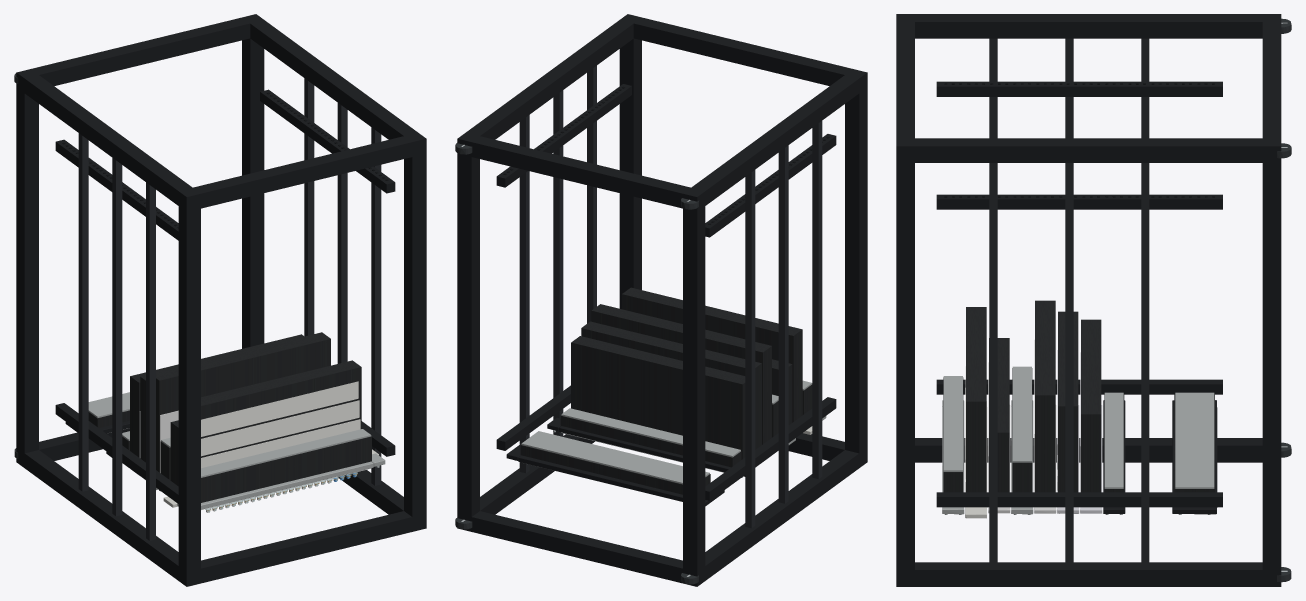
The model's file is mikrotik-crs-12u.glb.
3 renders of one model, left to right at view 1: azimuth 30°, elevation 25°; view 2: azimuth 150°, elevation 25°; view 3: azimuth 270°, elevation 25°, orthographic. The views are drawn at different scales.
Parts seen in each view (by area): view 1: RACK_FRAME__nexus_black_dark, SIDE_BRACES__nexus_black, CRS354_48G__mt354_lid, CRS317_16S__steel_textured, MOUNTING_RAILS__nexus_black_dark, CRS354_48G__steel_textured, PATCH_PANEL__steel_textured, PATCH_PANEL__cisco_grey_dark, CRS312_4C_8XG__steel_textured, CRS_UPS__cisco_grey_dark, CRS326_24G_2S__steel_textured; view 2: RACK_FRAME__nexus_black_dark, SIDE_BRACES__nexus_black, CRS312_4C_8XG__steel_textured, MOUNTING_RAILS__nexus_black_dark, CRS354_48G__steel_textured, CRS317_16S__steel_textured, CRS326_24S_2Q__steel_textured, CRS_UPS__cisco_grey_dark, CRS_UPS__steel_textured, BLANK_CRS__cisco_grey_dark, BLANK_CRS__steel_textured, CRS_UPS__nexus_black_dark (+3 smaller); view 3: RACK_FRAME__nexus_black_dark, MOUNTING_RAILS__nexus_black_dark, SIDE_BRACES__nexus_black, CRS317_16S__steel_textured, CRS354_48G__steel_textured, CRS_UPS__cisco_grey_dark, CRS312_4C_8XG__steel_textured, CRS326_24S_2Q__steel_textured, CABLE_MANAGER__cisco_grey_dark, PATCH_PANEL__cisco_grey_dark, CRS326_24G_2S__steel_textured, BLANK_CRS__cisco_grey_dark (+5 smaller).
Part boxes in pixels (x1,y1,x2,y2): RACK_FRAME__nexus_black_dark: (16,14,426,586); SIDE_BRACES__nexus_black: (78,78,381,540); CRS354_48G__mt354_lid: (201,381,360,468); CRS317_16S__steel_textured: (156,332,330,472); MOUNTING_RAILS__nexus_black_dark: (55,89,395,503); CRS354_48G__steel_textured: (201,360,361,457); PATCH_PANEL__steel_textured: (201,436,371,502); PATCH_PANEL__cisco_grey_dark: (177,429,385,509); CRS312_4C_8XG__steel_textured: (130,334,304,457); CRS_UPS__cisco_grey_dark: (88,392,129,417); CRS326_24G_2S__steel_textured: (170,420,178,486); RACK_FRAME__nexus_black_dark: (457,14,867,586); SIDE_BRACES__nexus_black: (519,65,822,528); CRS312_4C_8XG__steel_textured: (571,336,745,459); MOUNTING_RAILS__nexus_black_dark: (496,84,836,500); CRS354_48G__steel_textured: (622,287,802,422); CRS317_16S__steel_textured: (591,304,771,444); CRS326_24S_2Q__steel_textured: (581,321,761,449); CRS_UPS__cisco_grey_dark: (521,431,709,501); CRS_UPS__steel_textured: (520,445,710,494); BLANK_CRS__cisco_grey_dark: (561,408,740,472); BLANK_CRS__steel_textured: (560,415,741,467); CRS_UPS__nexus_black_dark: (506,443,724,506); RACK_FRAME__nexus_black_dark: (896,14,1281,586); MOUNTING_RAILS__nexus_black_dark: (936,81,1222,507); SIDE_BRACES__nexus_black: (989,38,1149,567); CRS317_16S__steel_textured: (1035,300,1055,492); CRS354_48G__steel_textured: (966,307,986,492); CRS_UPS__cisco_grey_dark: (1175,392,1214,488); CRS312_4C_8XG__steel_textured: (1081,319,1101,492); CRS326_24S_2Q__steel_textured: (1058,311,1078,492); CABLE_MANAGER__cisco_grey_dark: (1011,366,1033,514); PATCH_PANEL__cisco_grey_dark: (942,376,964,514); CRS326_24G_2S__steel_textured: (989,338,1009,492); BLANK_CRS__cisco_grey_dark: (1104,392,1123,488).
Size of what is drawn, in the model's own units: 0.609 by 0.94 by 0.7644.
Materials: 129 (6 with a texture image).
